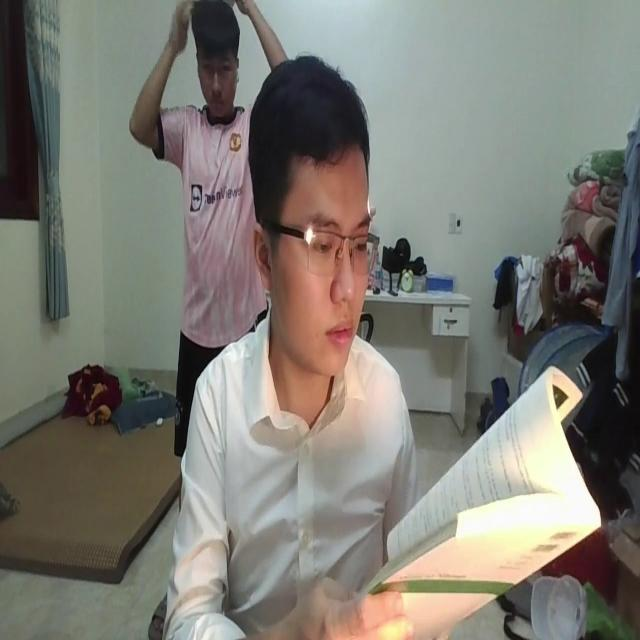book: (361, 361, 603, 635)
extra_person: (120, 0, 294, 374)
student: (171, 40, 421, 640)
